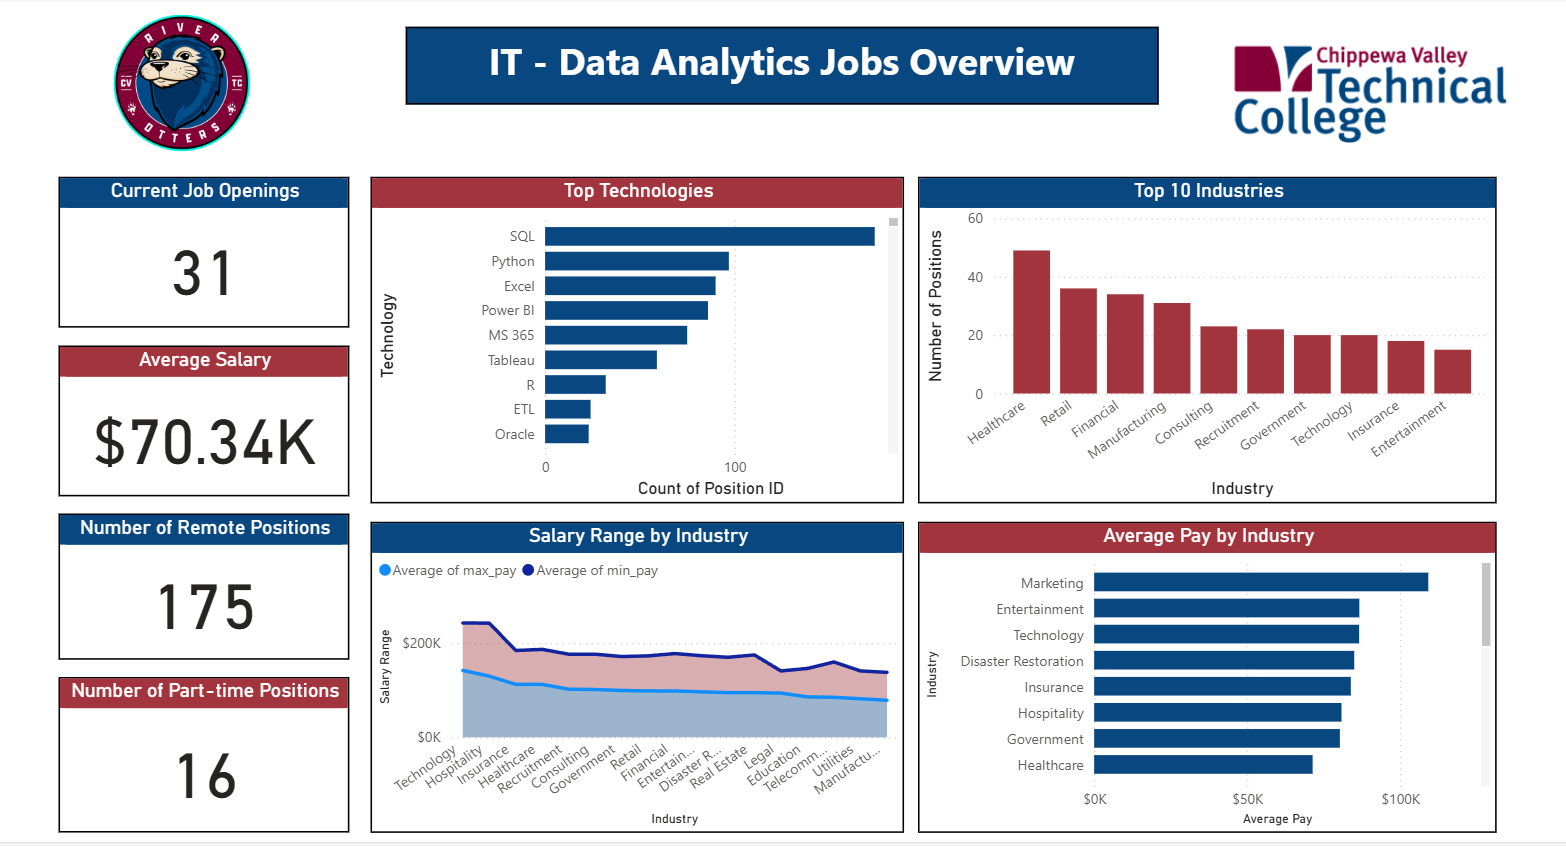

The page's visual inventory and layout, read from the dashboard file:
{"tool":"powerbi","page":{"name":"Overview","canvas":[1280,720],"ordinal":0},"visuals":[{"type":"textbox","box":[317.1,21.4,644.9,66.1],"z":0},{"type":"card","title":"Number of Part-time Positions","fields":{"Values":["position_tbl.Part-time Positions"]},"box":[19.5,578.7,249,133.3],"z":1000},{"type":"image","box":[47.7,0,155.6,138.1],"z":2000},{"type":"image","box":[1003.8,0,276.2,149.8],"z":3000},{"type":"card","title":"Number of Remote Positions","fields":{"Values":["position_tbl.Remote Positions"]},"box":[19.5,438.7,249,125.5],"z":4000},{"type":"card","title":"Current Job Openings","fields":{"Values":["position_tbl.Current Openings Count"]},"box":[19.5,149.8,249,129.4],"z":5000},{"type":"card","title":"Average Salary","fields":{"Values":["position_tbl.Average Pay"]},"box":[19.5,294.7,249,129.4],"z":6000},{"type":"clusteredBarChart","fields":{"Category":["employer_tbl.Industry"],"Y":["position_tbl.Average Pay"]},"box":[755.7,445.5,496,266.5],"z":7000},{"type":"clusteredBarChart","title":"Top Technologies","fields":{"Category":["technology_tbl.technology"],"Y":["CountNonNull(technology_tbl.position_id)"]},"box":[286.9,149.8,457.1,280.1],"z":8000},{"type":"clusteredColumnChart","title":"Top 10 Industries","fields":{"Category":["employer_tbl.industry"],"Y":["position_tbl.Job Openings"]},"box":[755.7,149.8,496,280.1],"z":9000},{"type":"stackedAreaChart","title":"Salary Range by Industry","fields":{"Y":["Avg(position_tbl.max_pay)","Avg(position_tbl.min_pay)"],"Category":["employer_tbl.Industry"]},"box":[286.9,445.5,457.1,266.5],"z":10000}]}

Visuals, with their boxes in screenshot pixels (x1, y1, x2, y2):
textbox: (403,25,1149,101)
"Number of Part-time Positions" card: (59,669,347,823)
image: (92,0,272,160)
image: (1197,0,1517,173)
"Number of Remote Positions" card: (59,507,347,652)
"Current Job Openings" card: (59,173,347,323)
"Average Salary" card: (59,341,347,490)
clusteredBarChart - employer_tbl.Industry x position_tbl.Average Pay: (910,515,1484,823)
"Top Technologies" clusteredBarChart: (368,173,897,497)
"Top 10 Industries" clusteredColumnChart: (910,173,1484,497)
"Salary Range by Industry" stackedAreaChart: (368,515,897,823)
